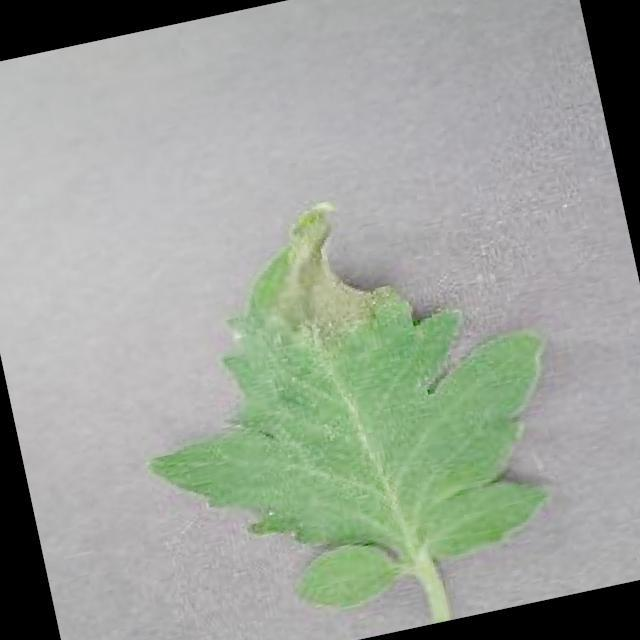Tomato late blight leaf: (104, 157, 587, 640)
